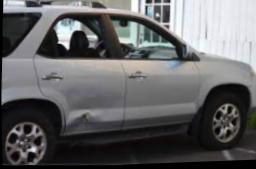Door: (31, 57, 135, 139)
